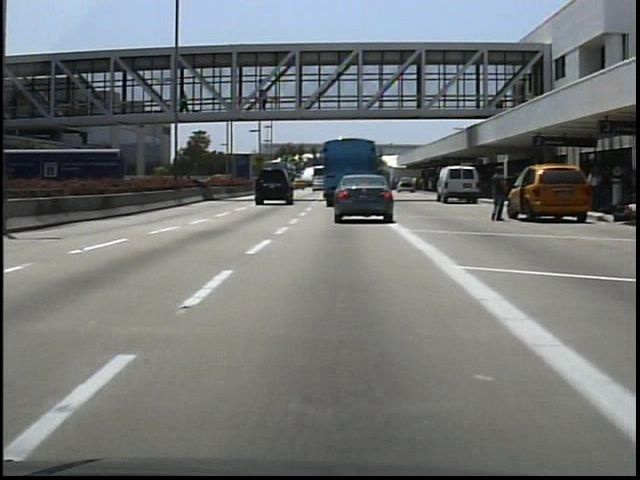person: (488, 163, 513, 225), (258, 88, 274, 119), (178, 89, 194, 116)
